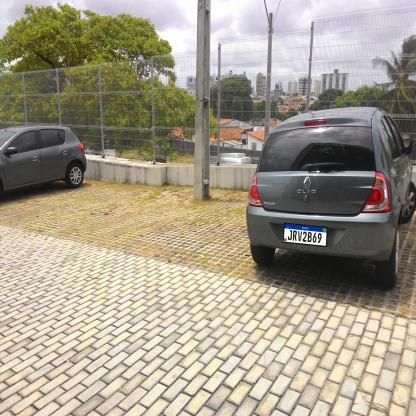PlacaM: (283, 223, 328, 247)
